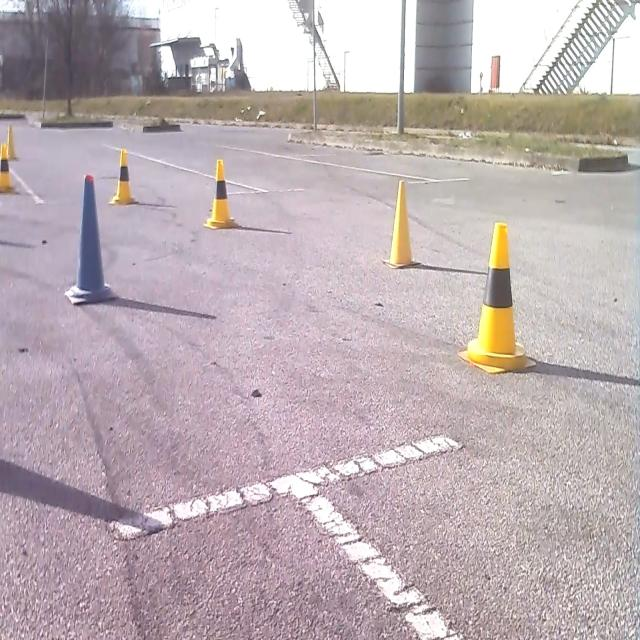blue_cone: (64, 171, 117, 305)
yellow_cone: (458, 219, 536, 374), (382, 177, 420, 269), (203, 157, 238, 229), (108, 146, 136, 206), (0, 141, 15, 192), (5, 122, 17, 159)
